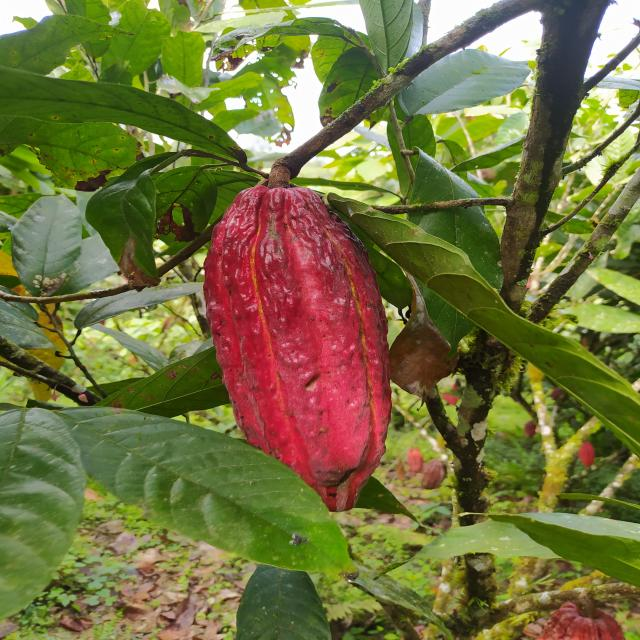Sana: (200, 181, 392, 512)
